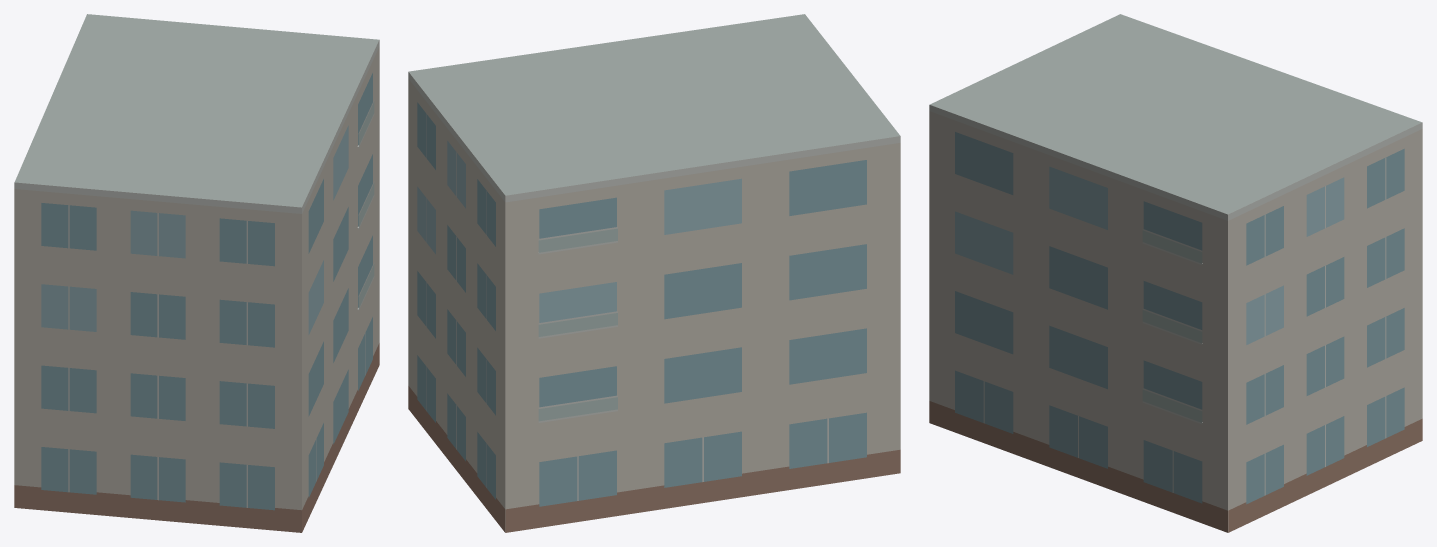
File: survey-upis-32885621.glb
3 views of the same model, side by side, from view 1: azimuth 30°, elevation 25°; view 2: azimuth 150°, elevation 25°; view 3: azimuth 270°, elevation 25° (orthographic). The views are drawn at different scales.
Parts seen in each view (by area): view 1: survey-upis-32885621.tmp; view 2: survey-upis-32885621.tmp; view 3: survey-upis-32885621.tmp.
Boxes of the visible parts, box(x1,y1,x2,y2) form: survey-upis-32885621.tmp: box(14, 14, 379, 532); survey-upis-32885621.tmp: box(408, 14, 900, 532); survey-upis-32885621.tmp: box(929, 14, 1422, 532).
Size of the model in its own units: 16.49 by 12.2 by 17.13.
